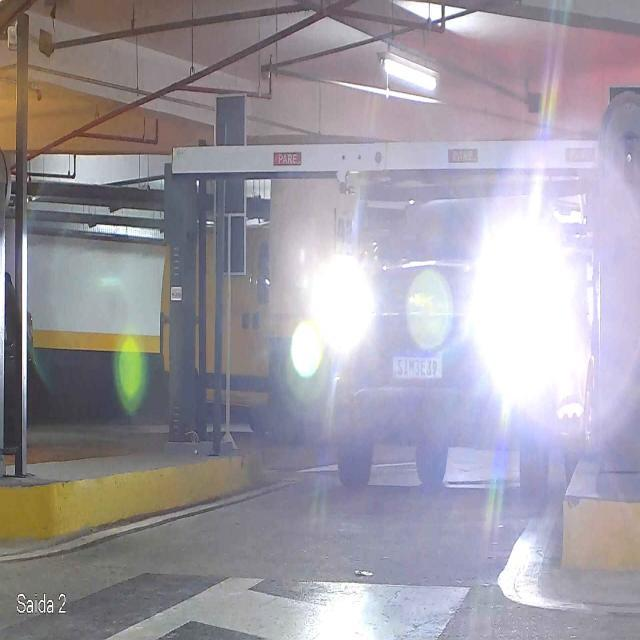mercosul_plate: (392, 352, 444, 381)
